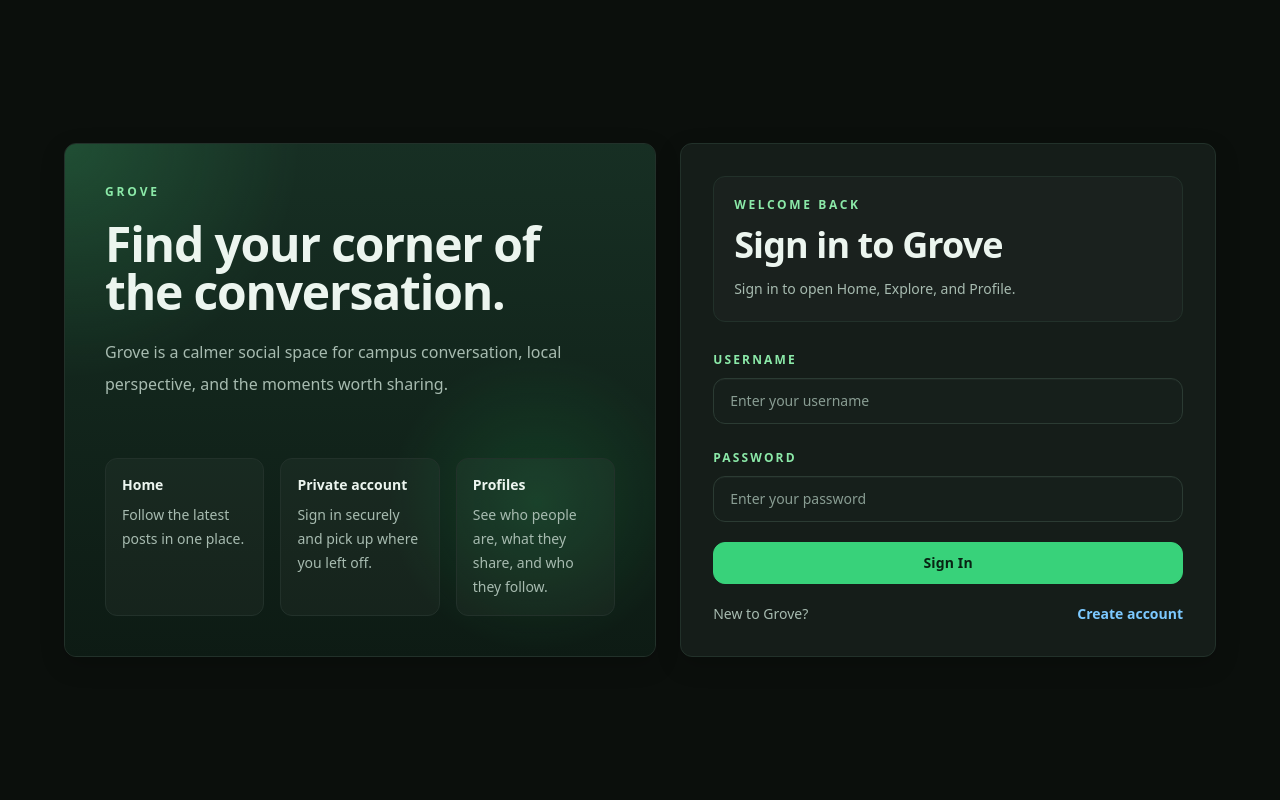
it: LoginPage › clears prior error when user edits username after failed login
The image size is (1280, 800).
In the field labelled "Username": (948, 401) [713, 378, 1183, 424], type "lucas"
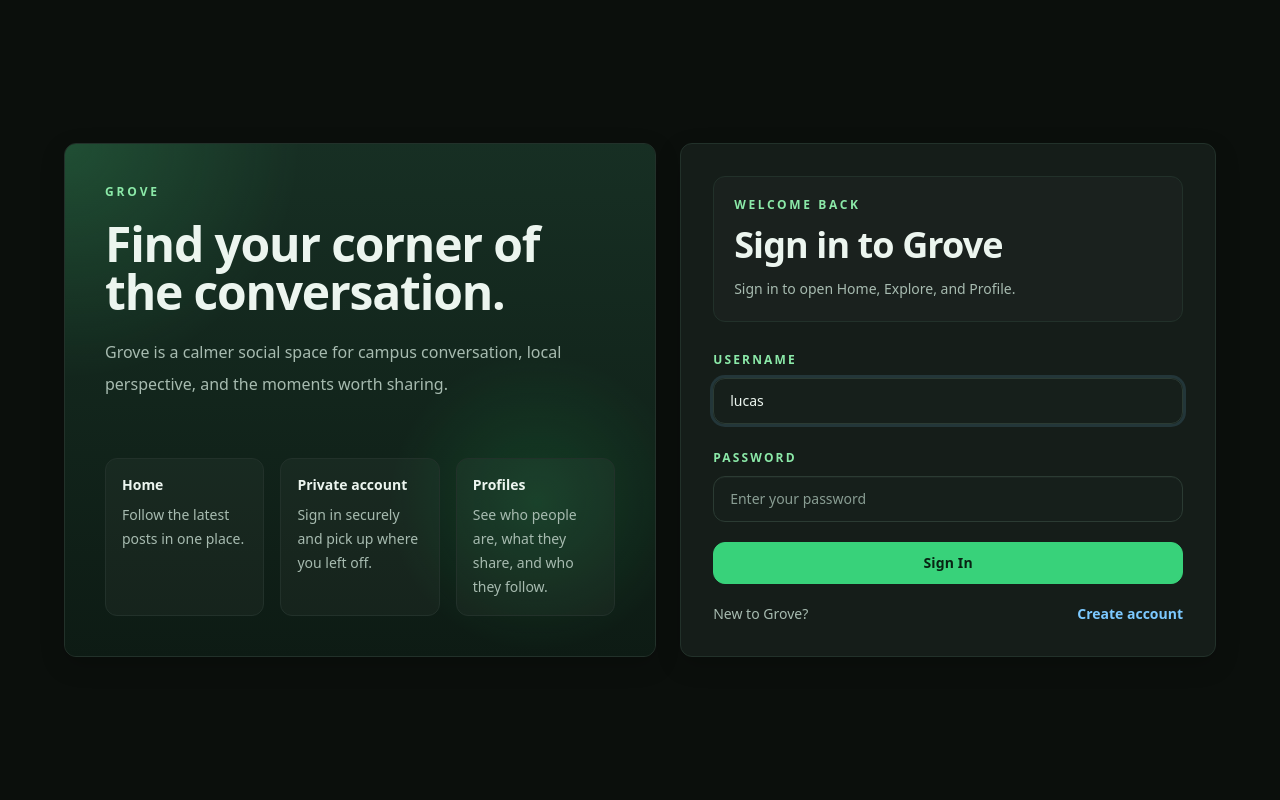
In the password field labelled "Password": (948, 499) [713, 476, 1183, 522], type "wrong"
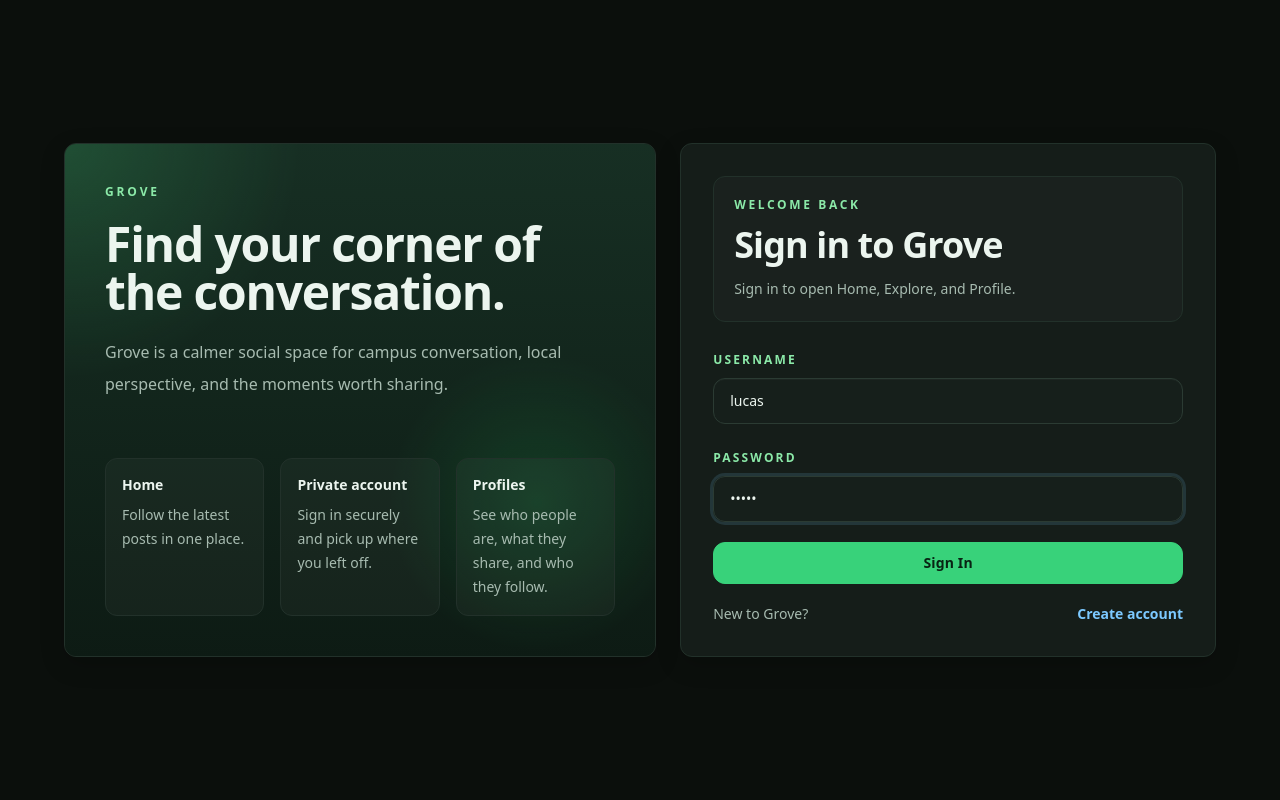
Click the button "Sign In": (948, 563) [713, 542, 1183, 584]
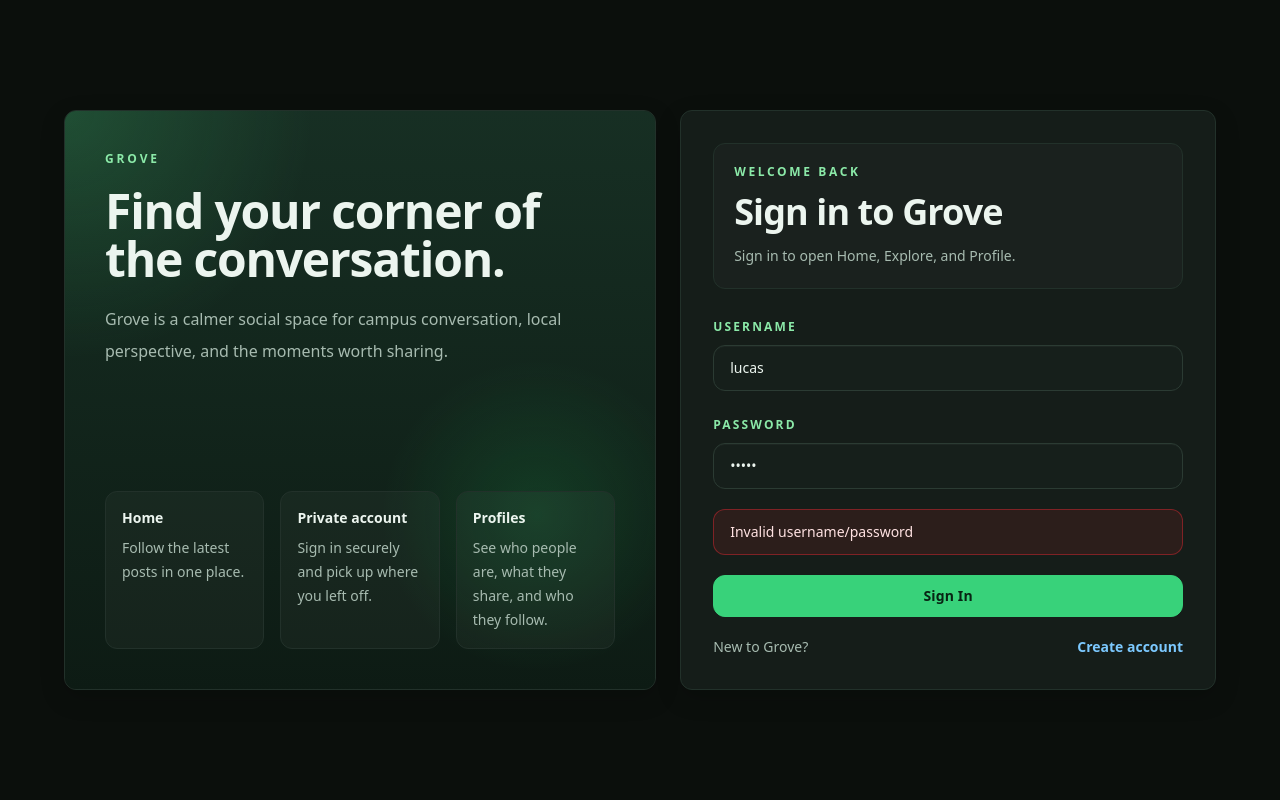
Expected: the message reads "Invalid username/password", [730, 522, 913, 541]
In the field labelled "Username": (948, 368) [713, 345, 1183, 391], type "x"
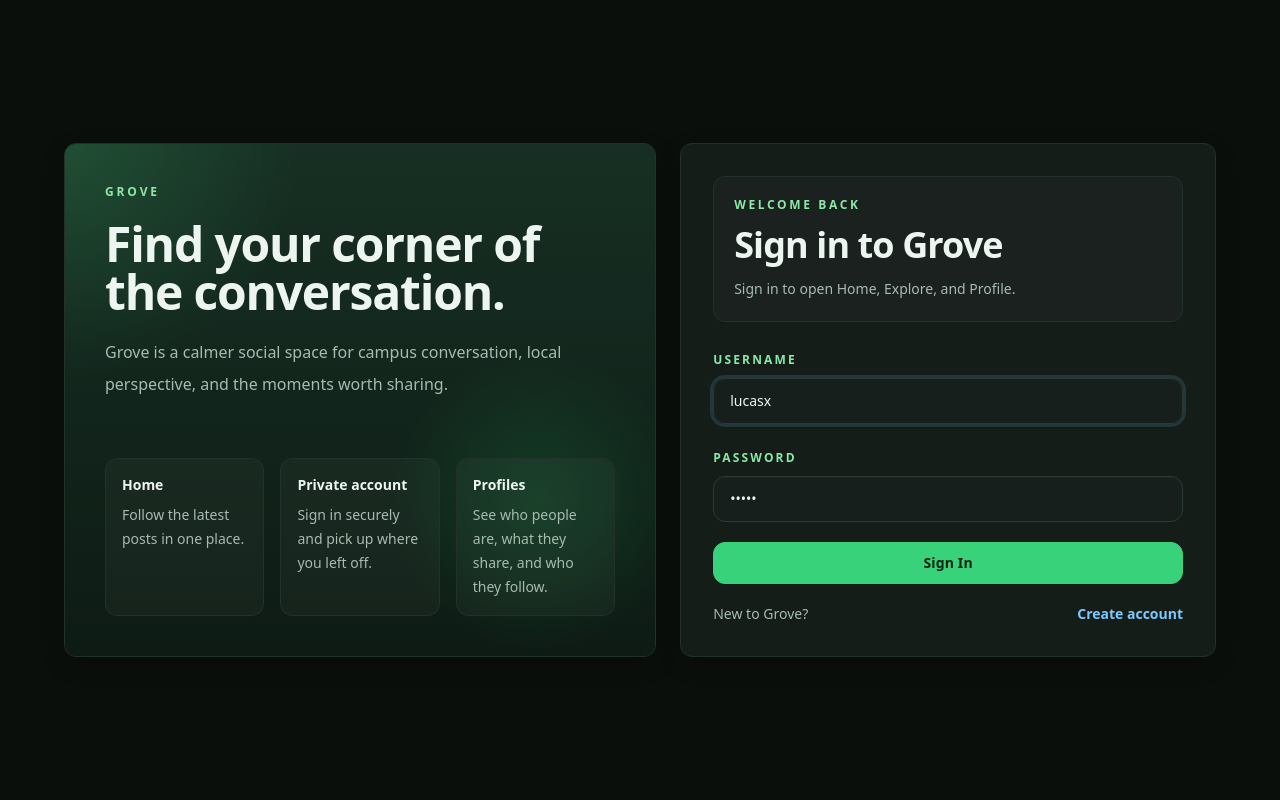
Expected: the message "Invalid username/password" is gone
